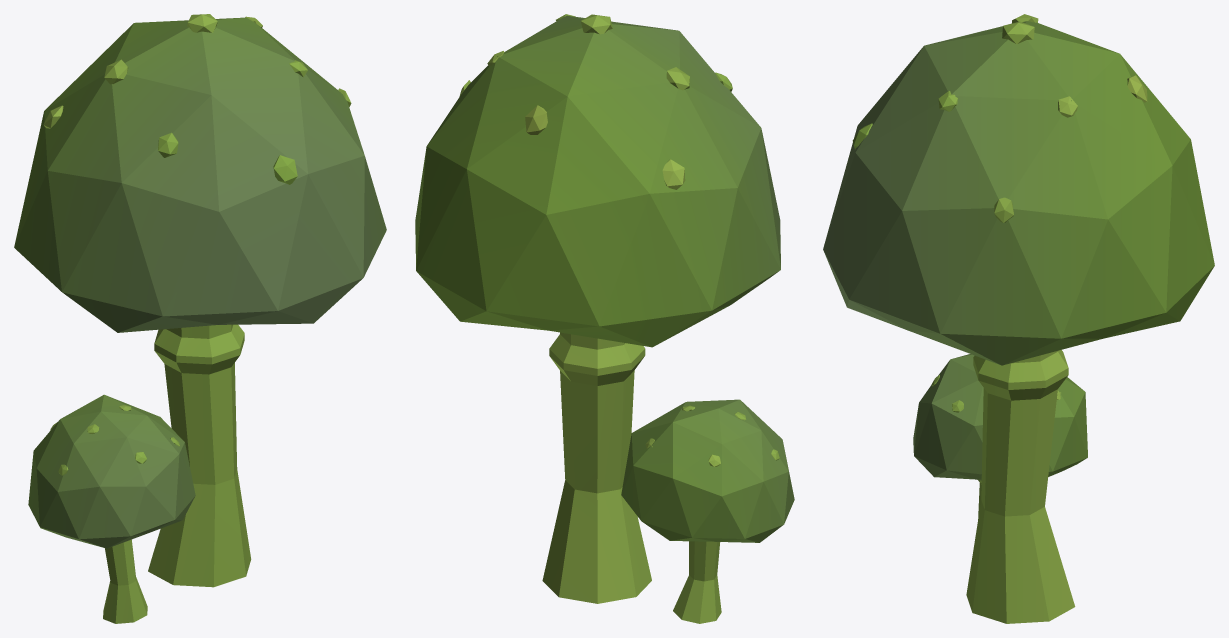
File: Mushroom_06.fbx
The picture shows the model from 3 angles, left to right: view 1: azimuth 30°, elevation 25°; view 2: azimuth 150°, elevation 25°; view 3: azimuth 270°, elevation 25°; orthographic projection. The views are drawn at different scales.
Visible parts, largest first — view 1: Mushroom_06; view 2: Mushroom_06; view 3: Mushroom_06.
Boxes of the visible parts, x1,y1,x2,y2 form: Mushroom_06: (14,14,386,623); Mushroom_06: (415,14,794,623); Mushroom_06: (823,14,1214,623).
Size of the model in its own units: 0.9621 by 1.59 by 0.9432.
